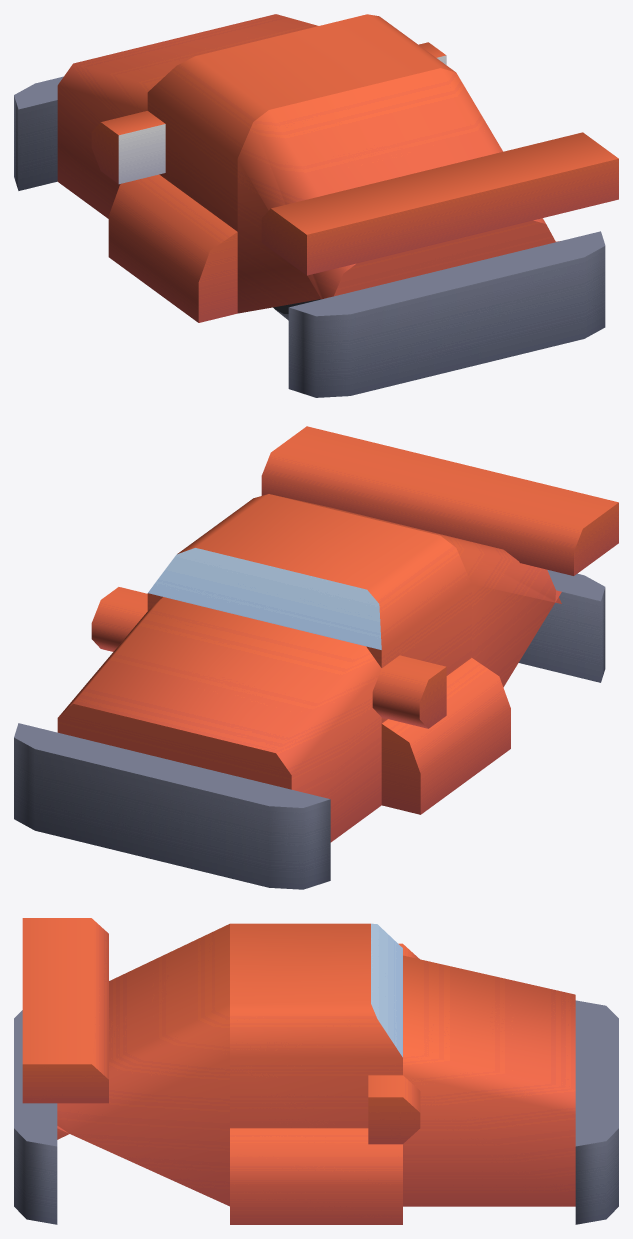
The model's file is vehicle-racer-low.glb.
3 renders of one model, top to bottom at view 1: azimuth 30°, elevation 25°; view 2: azimuth 150°, elevation 25°; view 3: azimuth 270°, elevation 25°, orthographic. The views are drawn at different scales.
Parts seen in each view (by area): view 1: vehicle-racer-low; view 2: vehicle-racer-low; view 3: vehicle-racer-low.
Part boxes in pixels (left/top/right/bottom): vehicle-racer-low: left=14, top=14, right=618, bottom=397; vehicle-racer-low: left=14, top=426, right=618, bottom=889; vehicle-racer-low: left=14, top=918, right=618, bottom=1224.
Size of the model in its own units: 1.57 by 1.16 by 2.62.
1 material, 1 textured.
